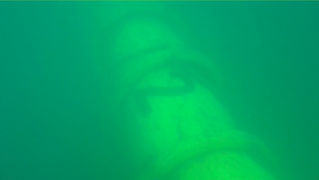2: (132, 70, 196, 117)
pipe: (93, 1, 280, 179)
